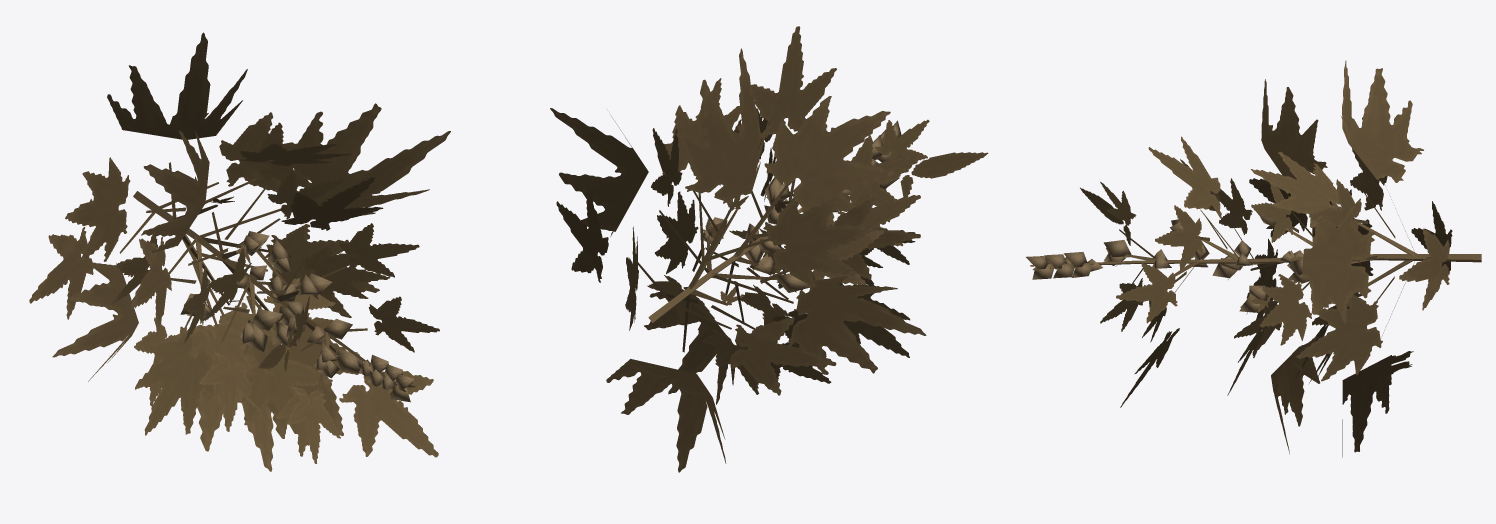
Rendered from p_male_hybrid_ripe_c3_cards.obj.
3 views of the same model, side by side, from view 1: azimuth 30°, elevation 25°; view 2: azimuth 150°, elevation 25°; view 3: azimuth 270°, elevation 25° (orthographic). The views are drawn at different scales.
Size of the model in its own units: 1.7 by 1.82 by 1.74.
1 material, 1 textured.
